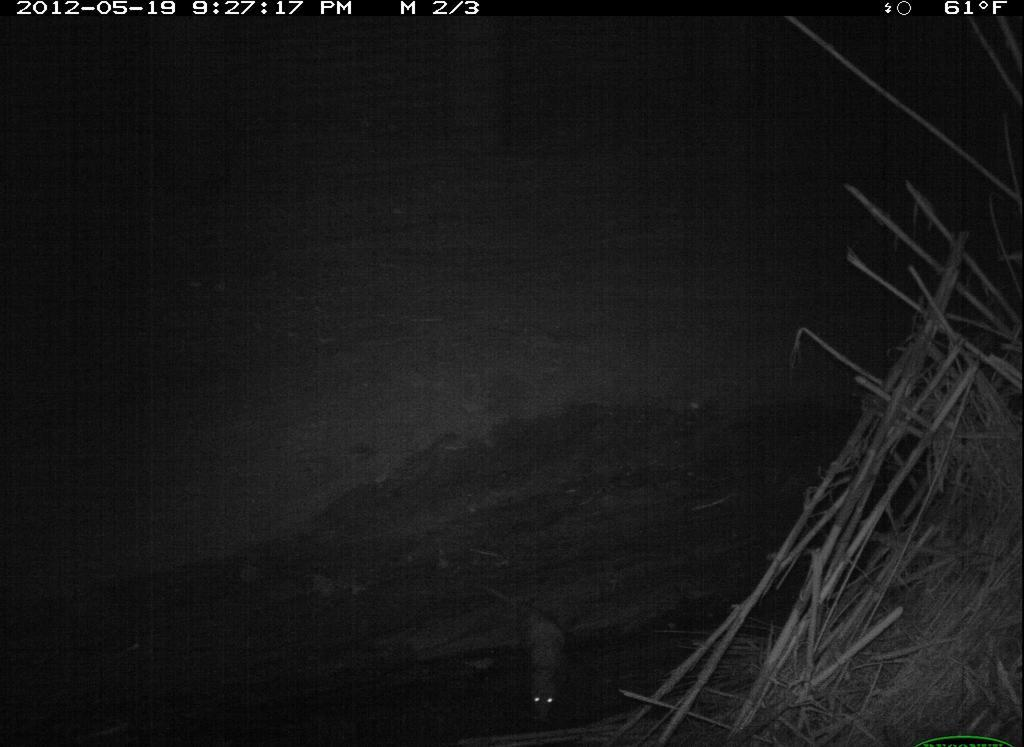opossum: (481, 570, 585, 737)
